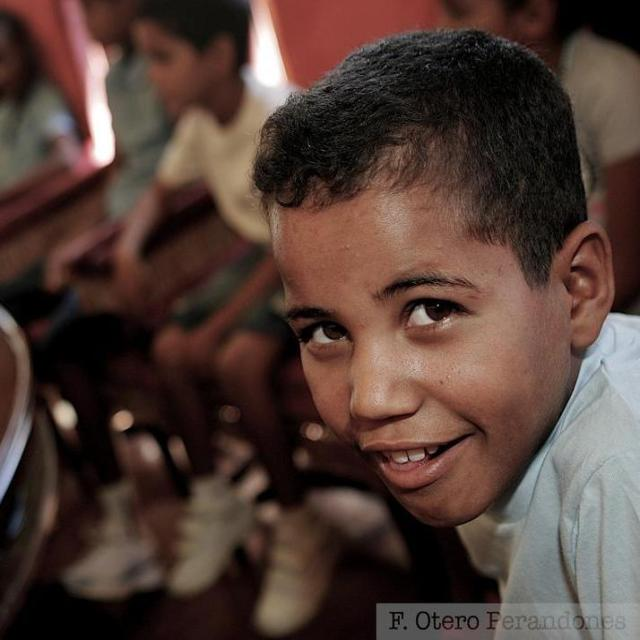no-glass: (294, 296, 463, 353)
